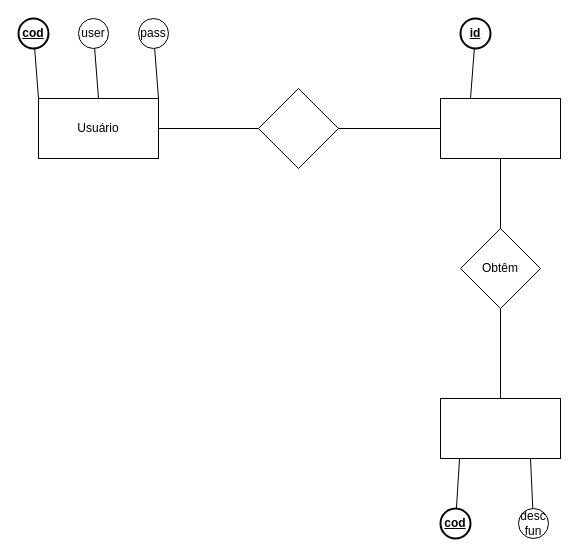
Some shapes in this 578 by 556 pixel diagram are drawn without their labels. The centre of each missing label's shape, as x and y in pixels:
Cadastro: (500,128)
Função: (500,428)
Possui: (298,128)
